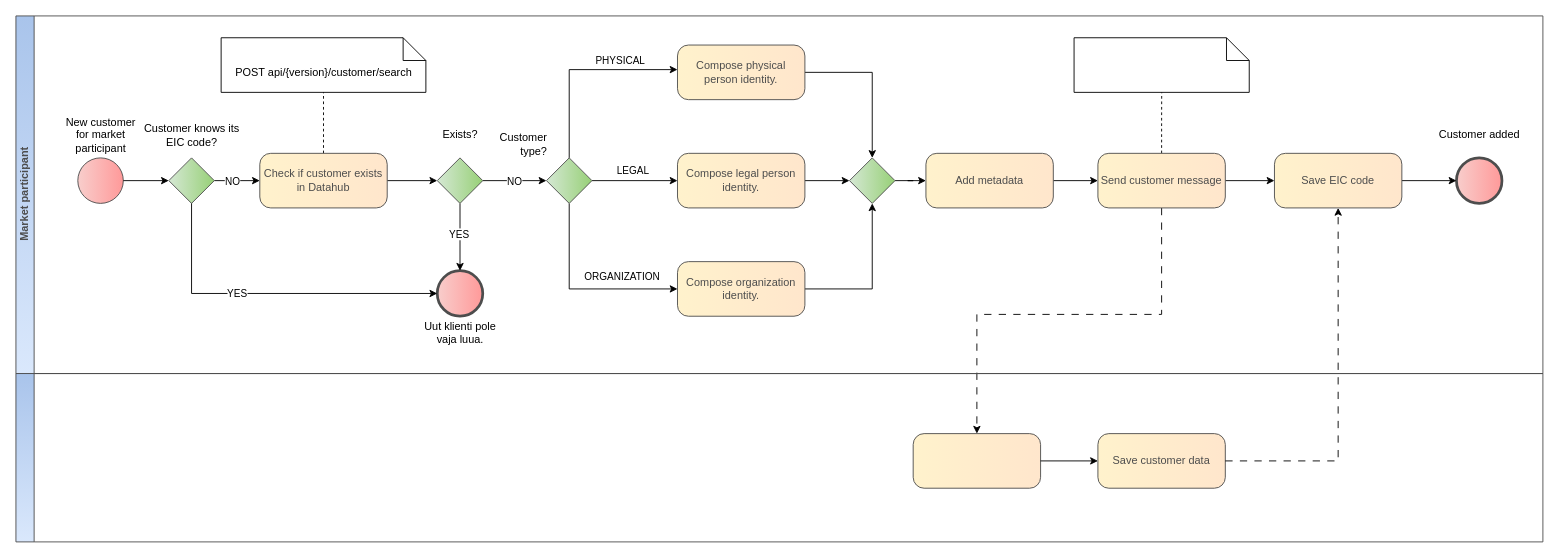
Image size: 1559x558. Some labels were removed from this diagram. The box of each missing label's shape, as (x1, y1, x2, y2) in pixels:
Assign EIC code for customer: (912, 433, 1041, 488)
Datahub: (15, 373, 1543, 542)
POST api/{version}/customer: (1073, 37, 1249, 92)
